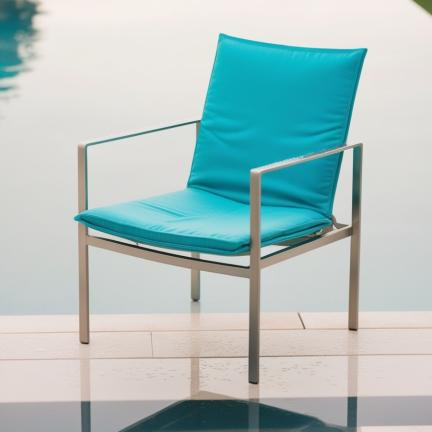empty chair: (76, 35, 366, 383)
